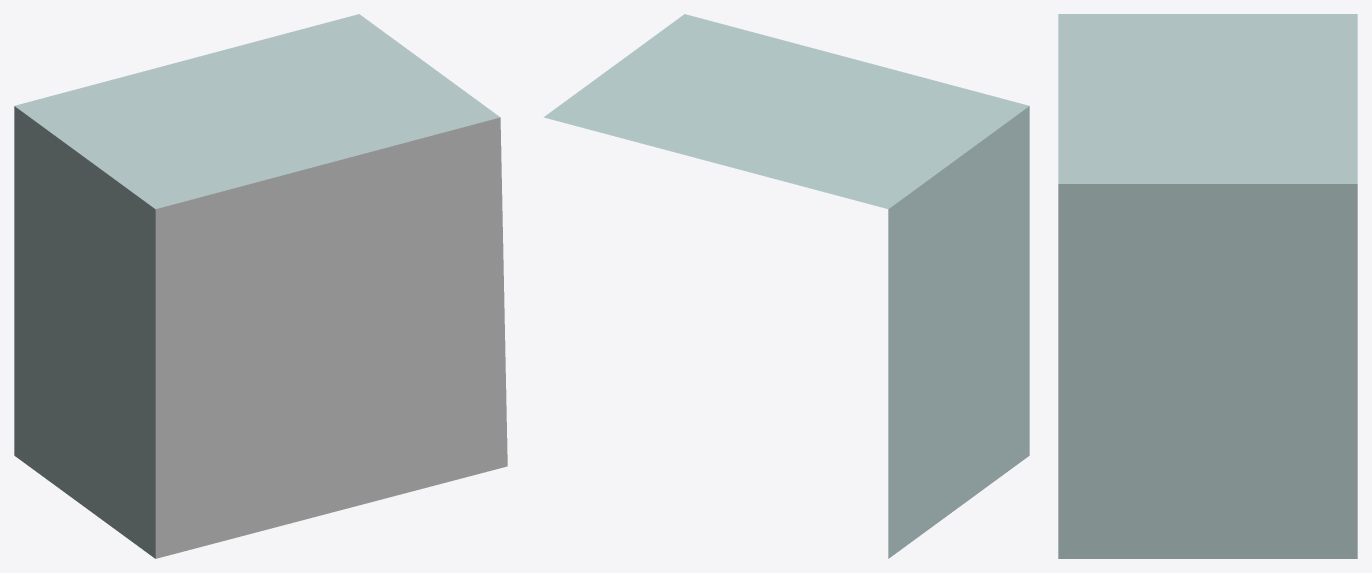
3 views of the same model, side by side, from view 1: azimuth 30°, elevation 25°; view 2: azimuth 150°, elevation 25°; view 3: azimuth 270°, elevation 25° (orthographic). The views are drawn at different scales.
Visible parts, largest first — view 1: 0_2_3_3_0_3_0_0_2; view 2: 0_2_3_3_0_3_0_0_2; view 3: 0_2_3_3_0_3_0_0_2.
Boxes of the visible parts, x1,y1,x2,y2 form: 0_2_3_3_0_3_0_0_2: [14, 14, 507, 558]; 0_2_3_3_0_3_0_0_2: [543, 14, 1029, 558]; 0_2_3_3_0_3_0_0_2: [1058, 14, 1357, 558].
Bounding box in the file's own units: 4.32 × 4.19 × 3.
